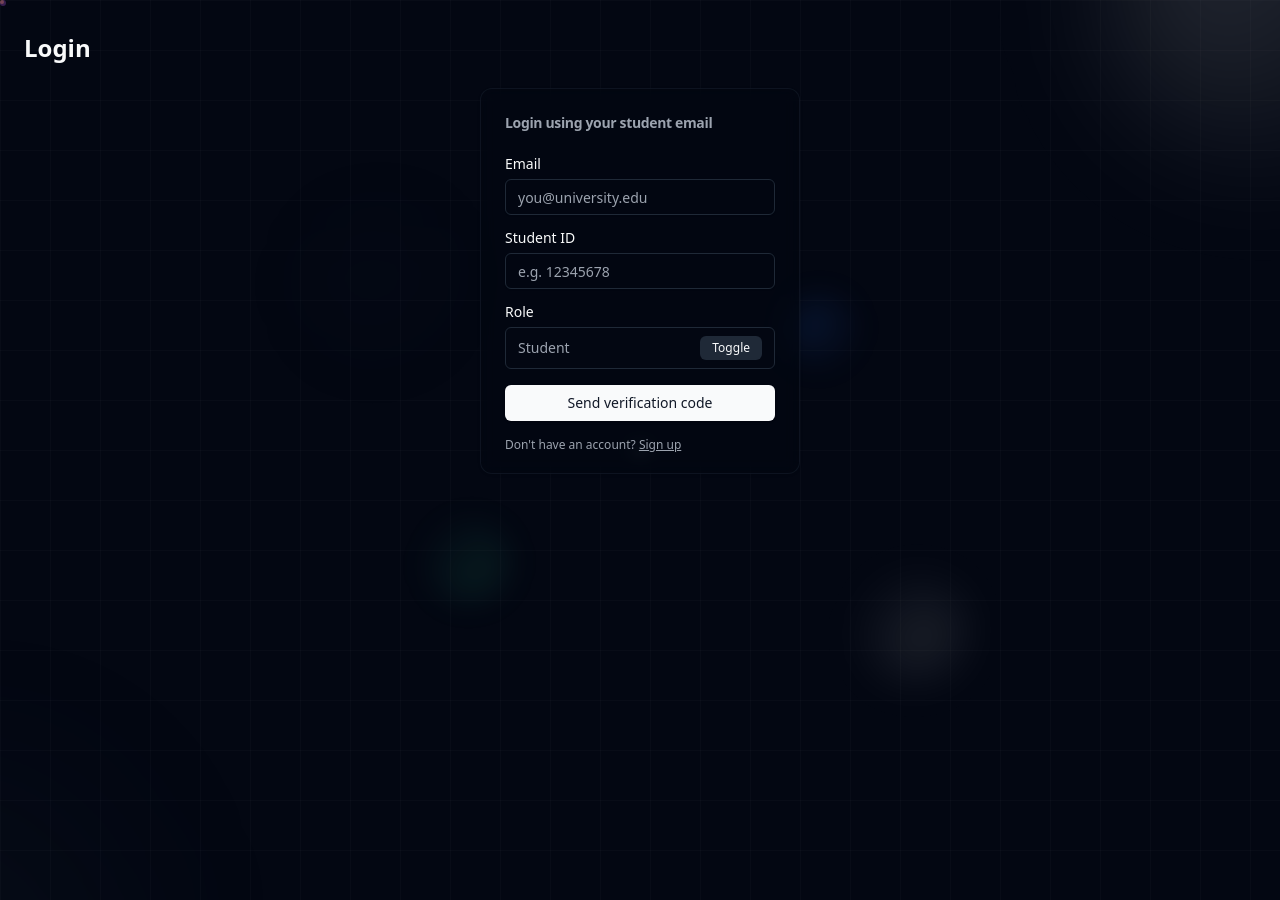
Scenario: Login Page › shows loading state during OTP send
The image size is (1280, 900).
Type "test@example.com" into the field with placeholder "you@university.edu" at [640, 197], box [505,179,775,215]
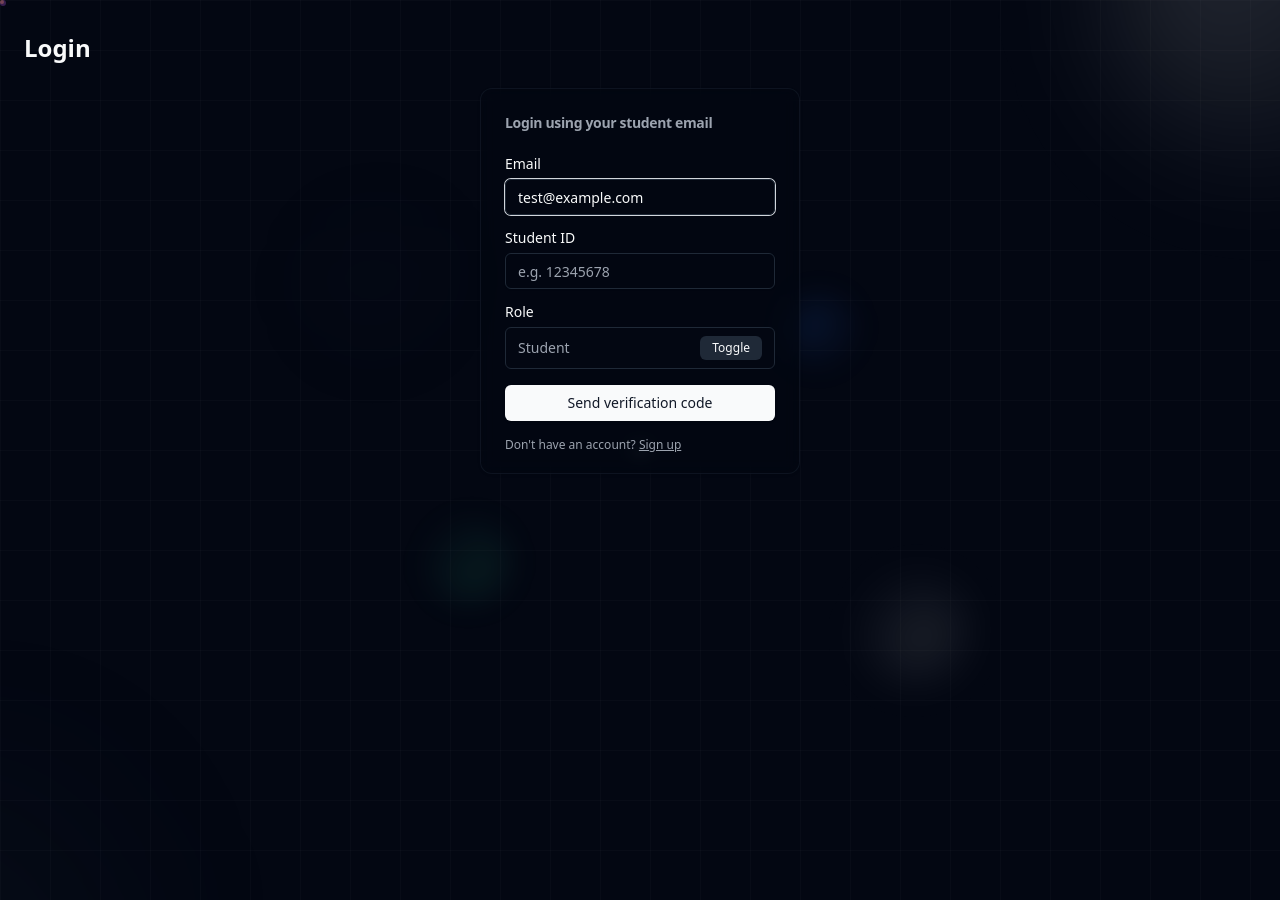
Type "12345678" into the field with placeholder "e.g. 12345678" at [640, 271], box [505,253,775,289]
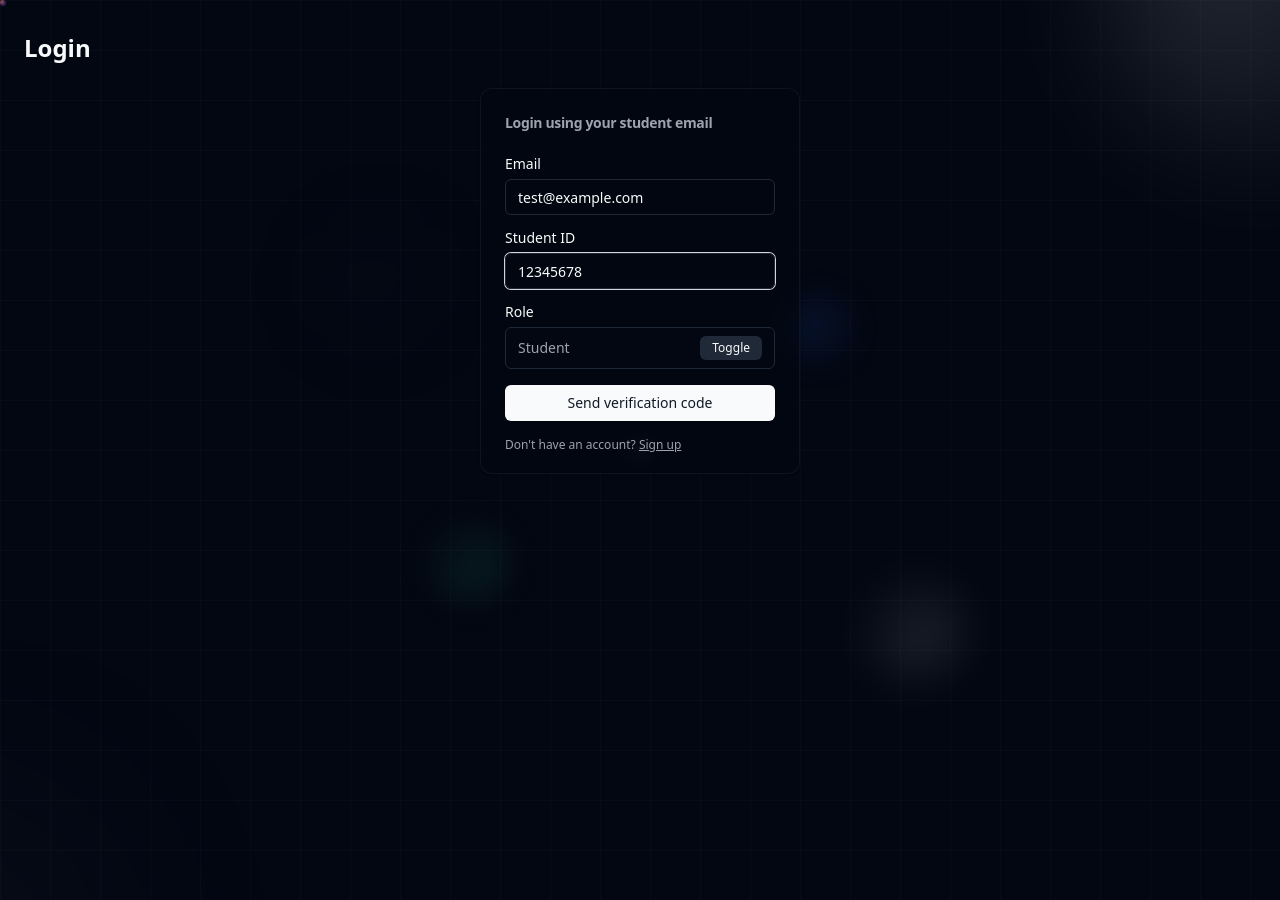
Click the button "Send verification code" at [640, 403], box [505,385,775,421]
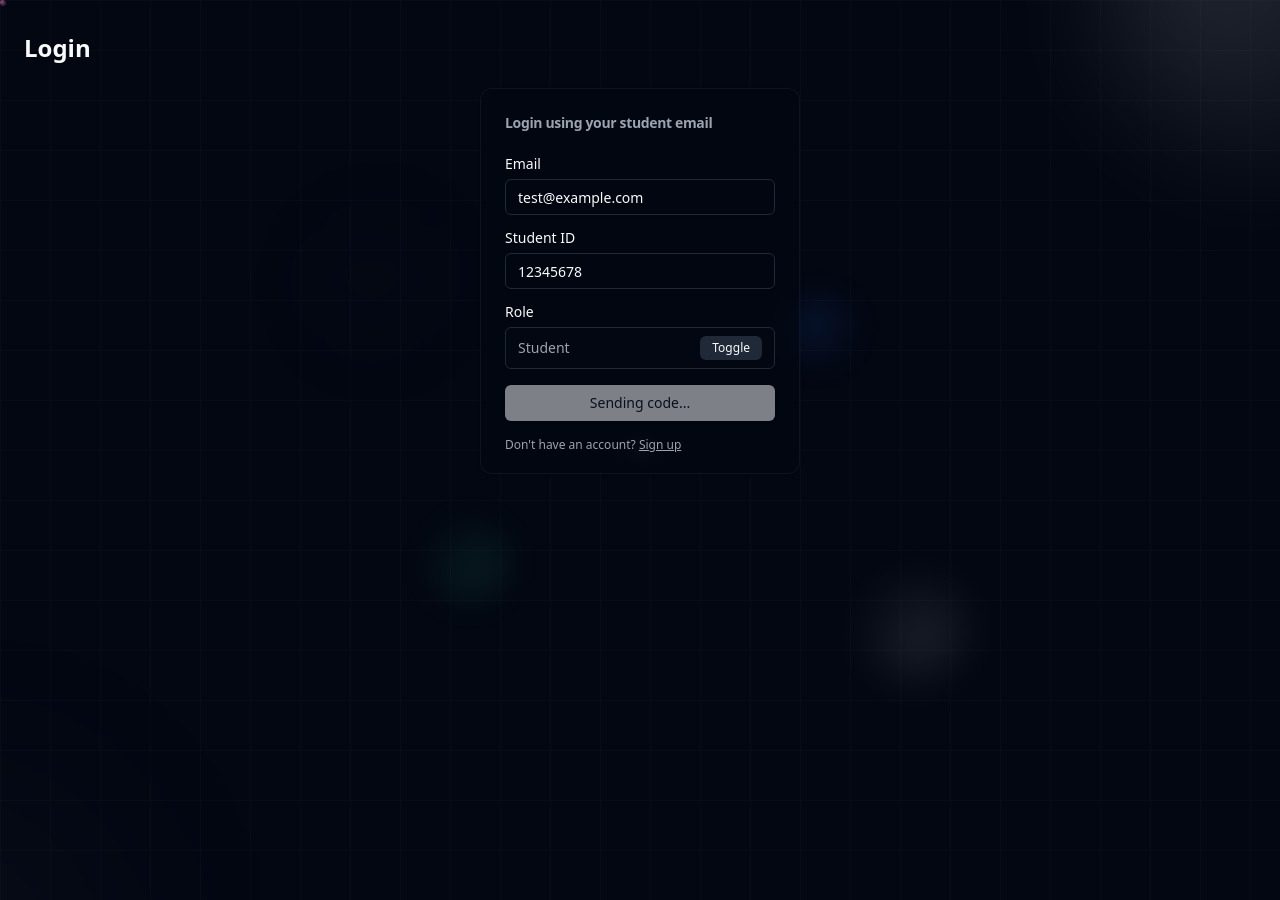
Expected: the button "Sending code..." is disabled, [505,385,775,421]
